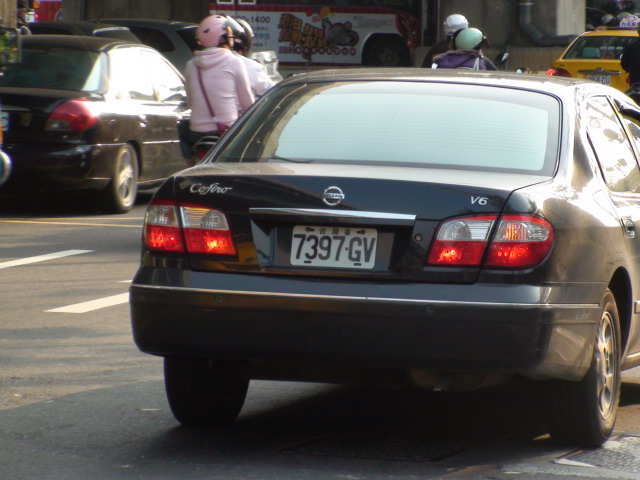plate: (290, 222, 380, 271)
